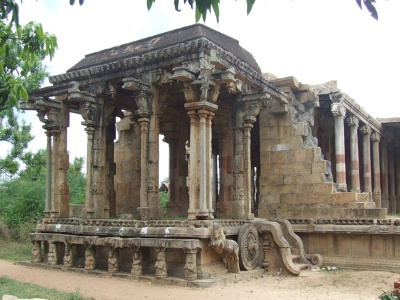mandapa: (25, 19, 256, 233)
